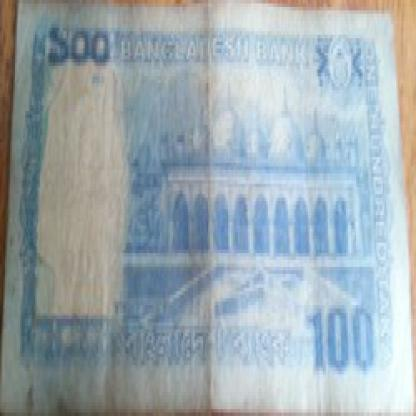one hundred taka: (306, 302, 378, 381), (45, 18, 113, 76)
